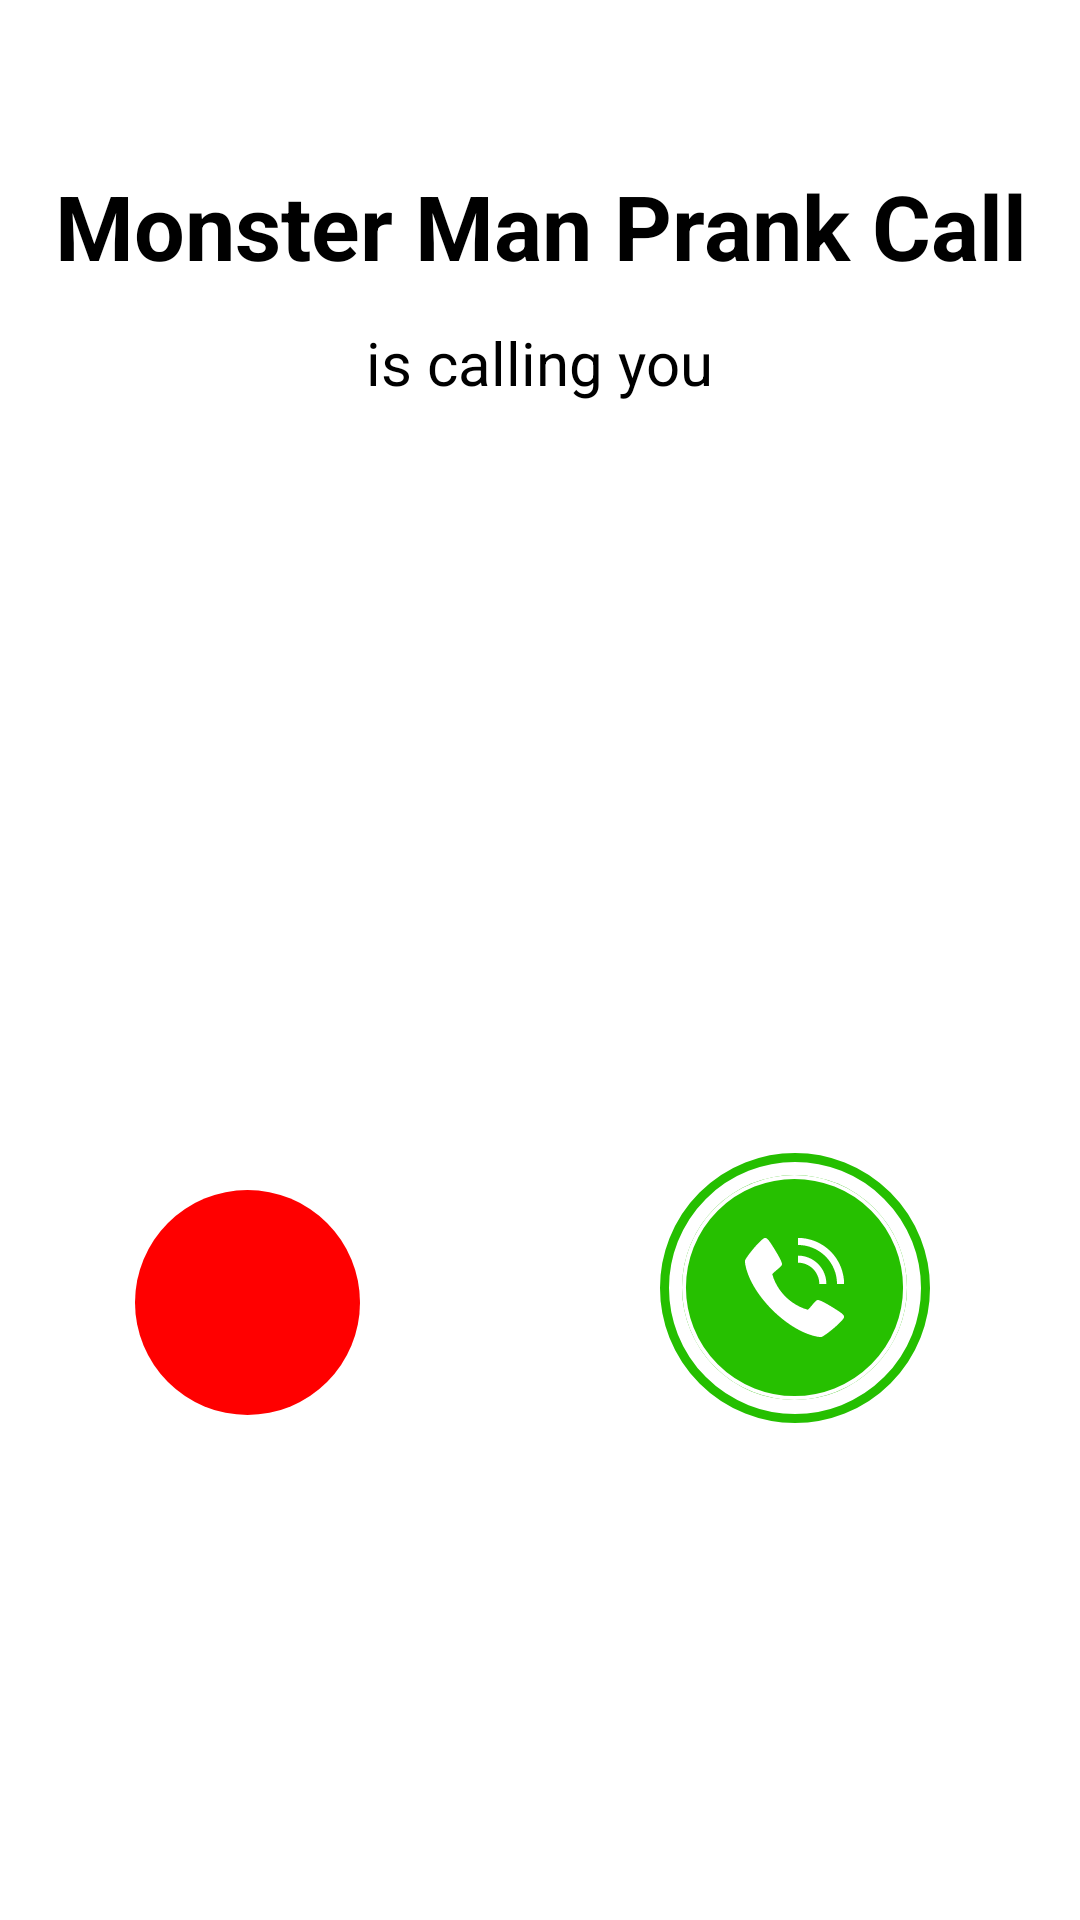

Locate icon controls on the screen. Image size 1080x1920, boxes as [left=x1, top=y1, right=x2, bottom=y2].
call: [left=660, top=1153, right=930, bottom=1423]
